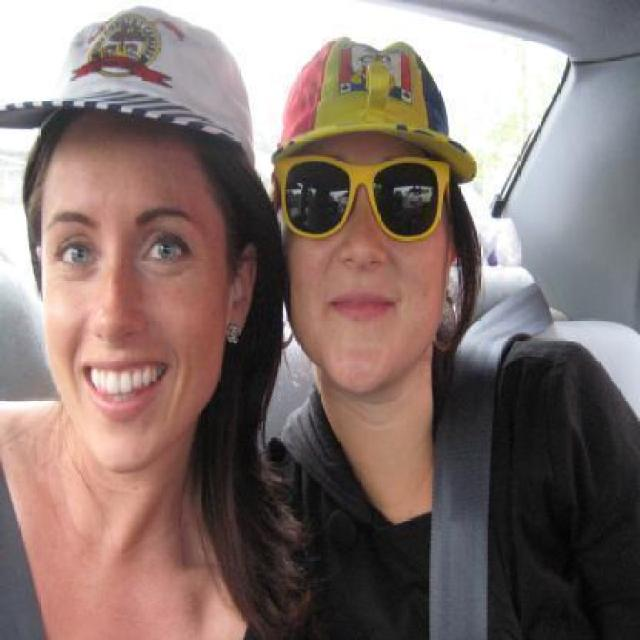No_Glasses: (36, 200, 215, 288)
face_nomask: (33, 190, 209, 422), (275, 162, 450, 350)
glasses: (270, 154, 452, 241)
head_nohelmet: (2, 0, 268, 169), (250, 24, 487, 181)
